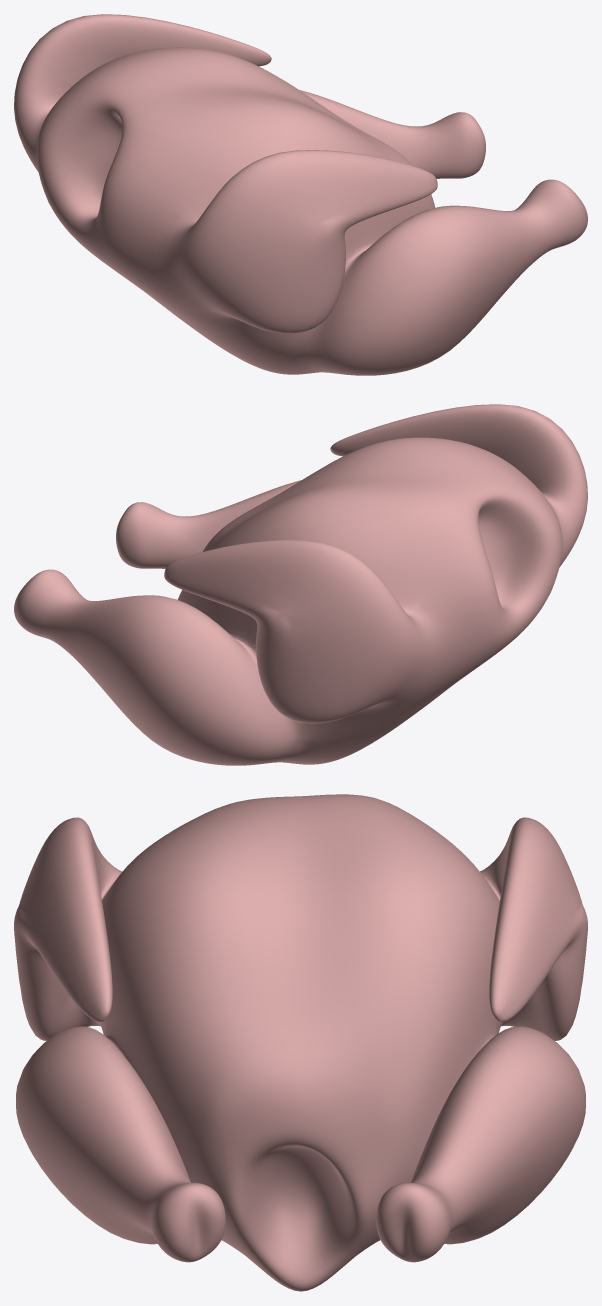
File: chicken.fbx
3 renders of one model, top to bottom at view 1: azimuth 30°, elevation 25°; view 2: azimuth 150°, elevation 25°; view 3: azimuth 270°, elevation 25°, orthographic. The views are drawn at different scales.
Visible parts, largest first — view 1: chicken; view 2: chicken; view 3: chicken.
Boxes of the visible parts, bbox=[...] form: chicken: bbox=[14, 14, 587, 375]; chicken: bbox=[14, 404, 587, 765]; chicken: bbox=[14, 794, 587, 1291].
Bounding box in the file's own units: 94.55 × 59.55 × 86.23.
